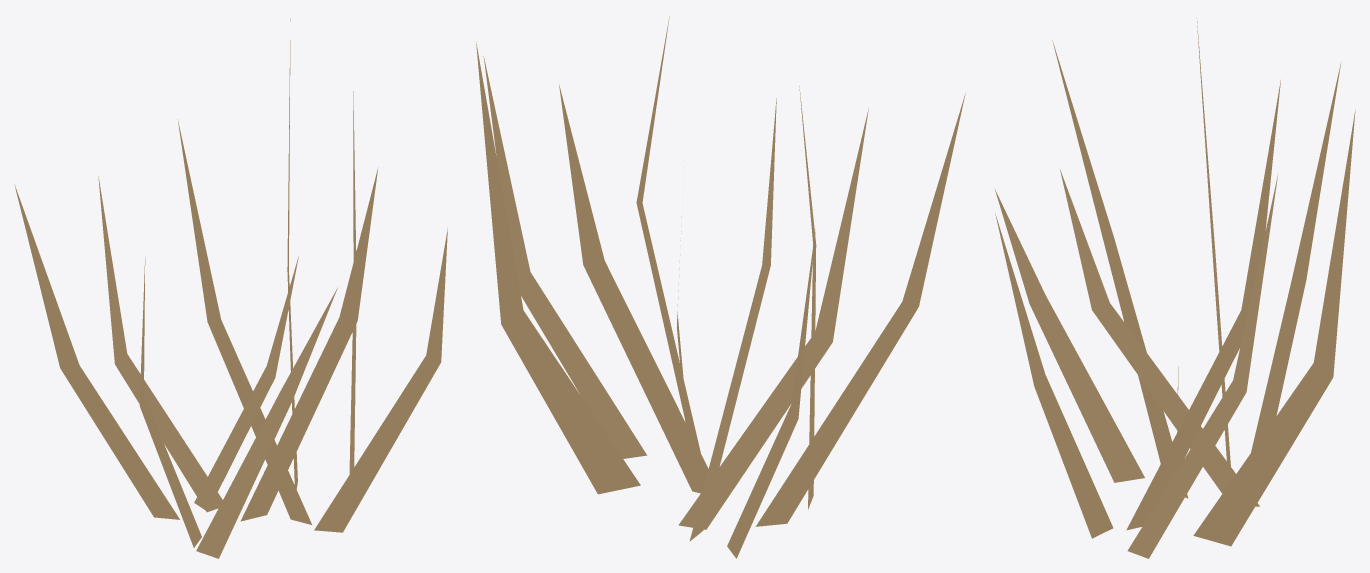
File: Dead_Bush_b_02.fbx
The picture shows the model from 3 angles, left to right: view 1: azimuth 30°, elevation 25°; view 2: azimuth 150°, elevation 25°; view 3: azimuth 270°, elevation 25°; orthographic projection. The views are drawn at different scales.
Parts seen in each view (by area): view 1: Dead_Bush_b_02; view 2: Dead_Bush_b_02; view 3: Dead_Bush_b_02.
Part boxes in pixels (bbox=[...]): Dead_Bush_b_02: bbox=[14, 18, 447, 558]; Dead_Bush_b_02: bbox=[476, 16, 965, 558]; Dead_Bush_b_02: bbox=[995, 18, 1355, 558].
Bounding box in the file's own units: 0.4618 × 0.6082 × 0.4153.
